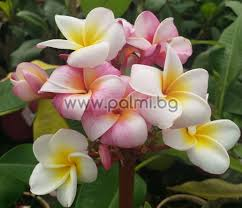frangipani: (29, 130, 96, 208)
